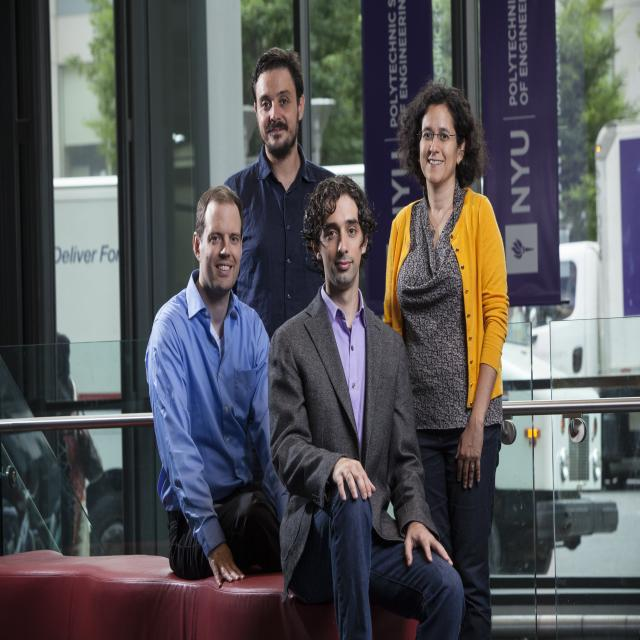body: (264, 166, 467, 640), (384, 76, 510, 640), (144, 182, 292, 590), (220, 45, 339, 344), (58, 334, 86, 556)
